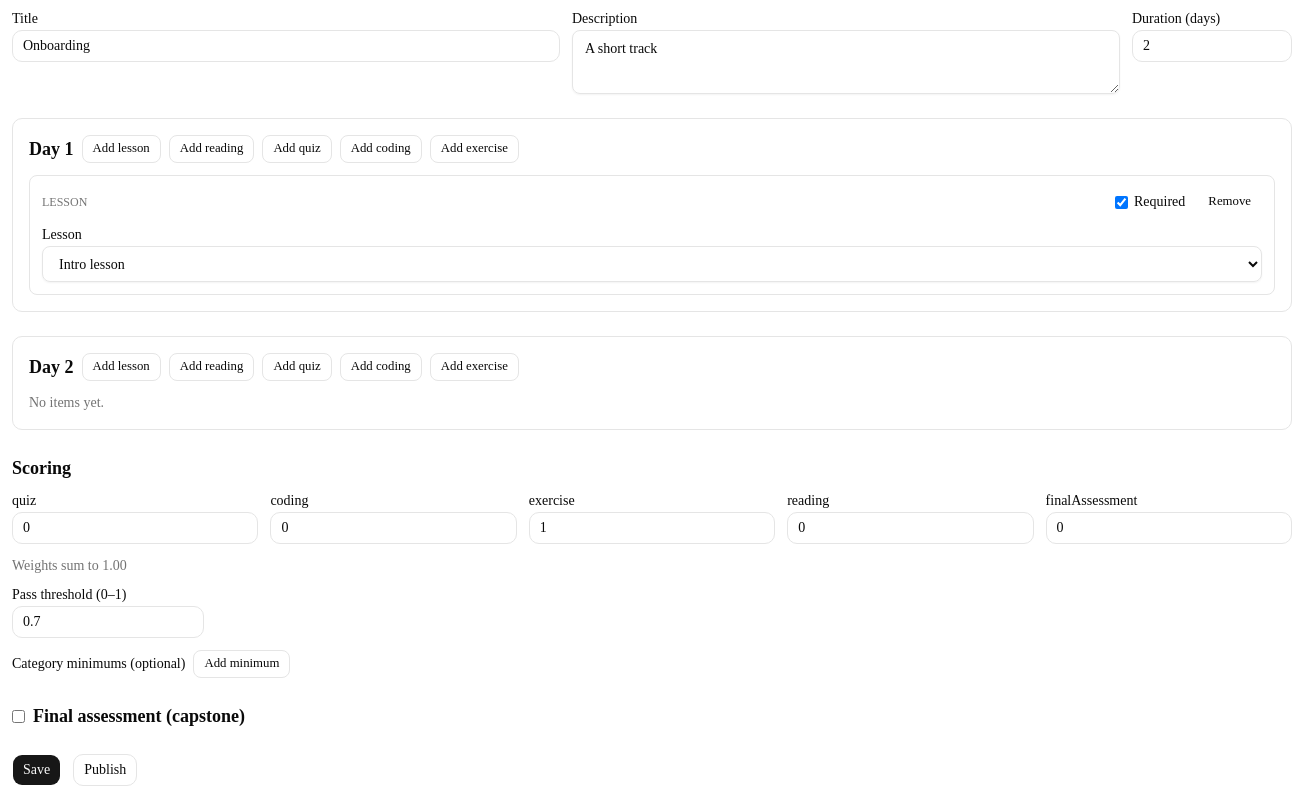
Scenario: TrackBuilder › publish is blocked while dirty and surfaces API errors verbatim once saved
Expected: the button "Publish" is enabled, [73,754,137,786]
Dirty the draft → publish disables until saved.
Step 1. Type "!" into the field labelled "Title" → x=286, y=46, box [12,30,560,62]
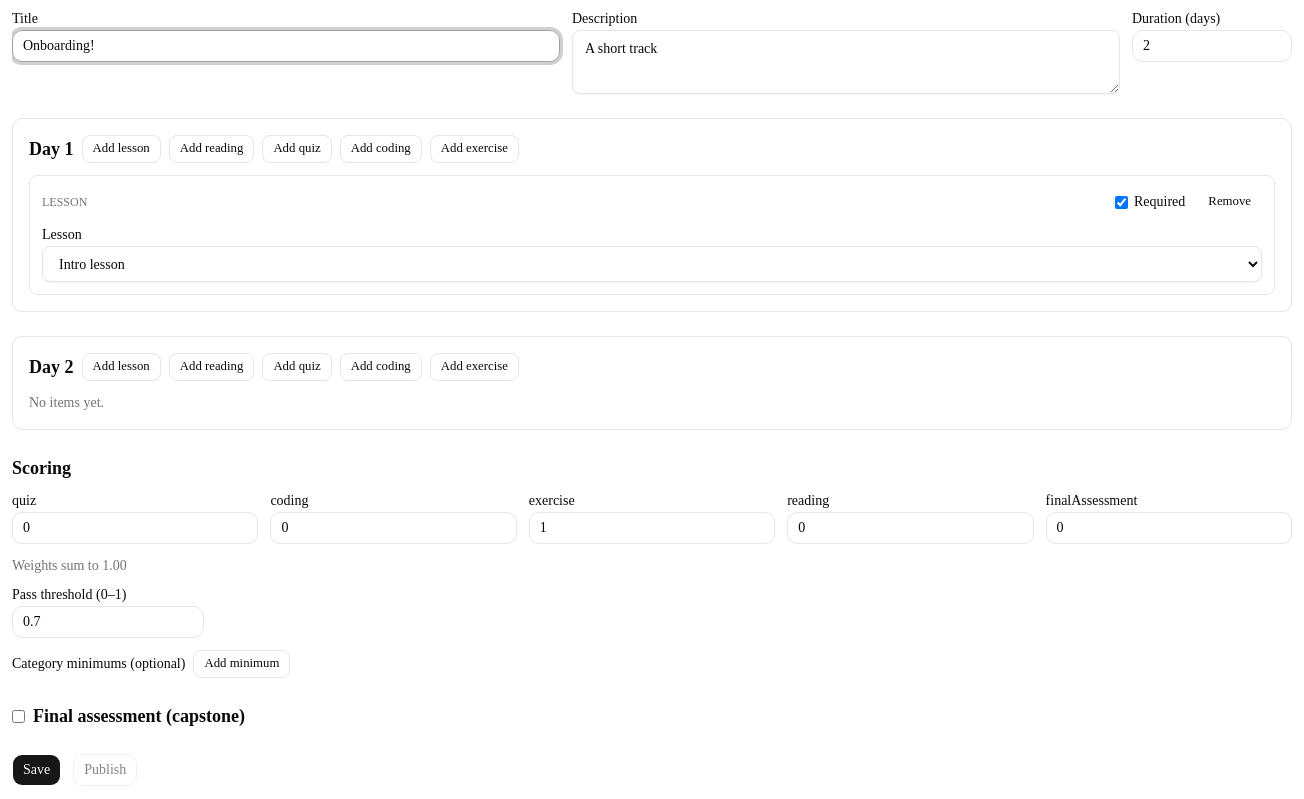
Expected: the button "Publish" is disabled, [73,754,137,786]
Step 2. Click the button "Save" → x=37, y=770, box [12,754,61,786]
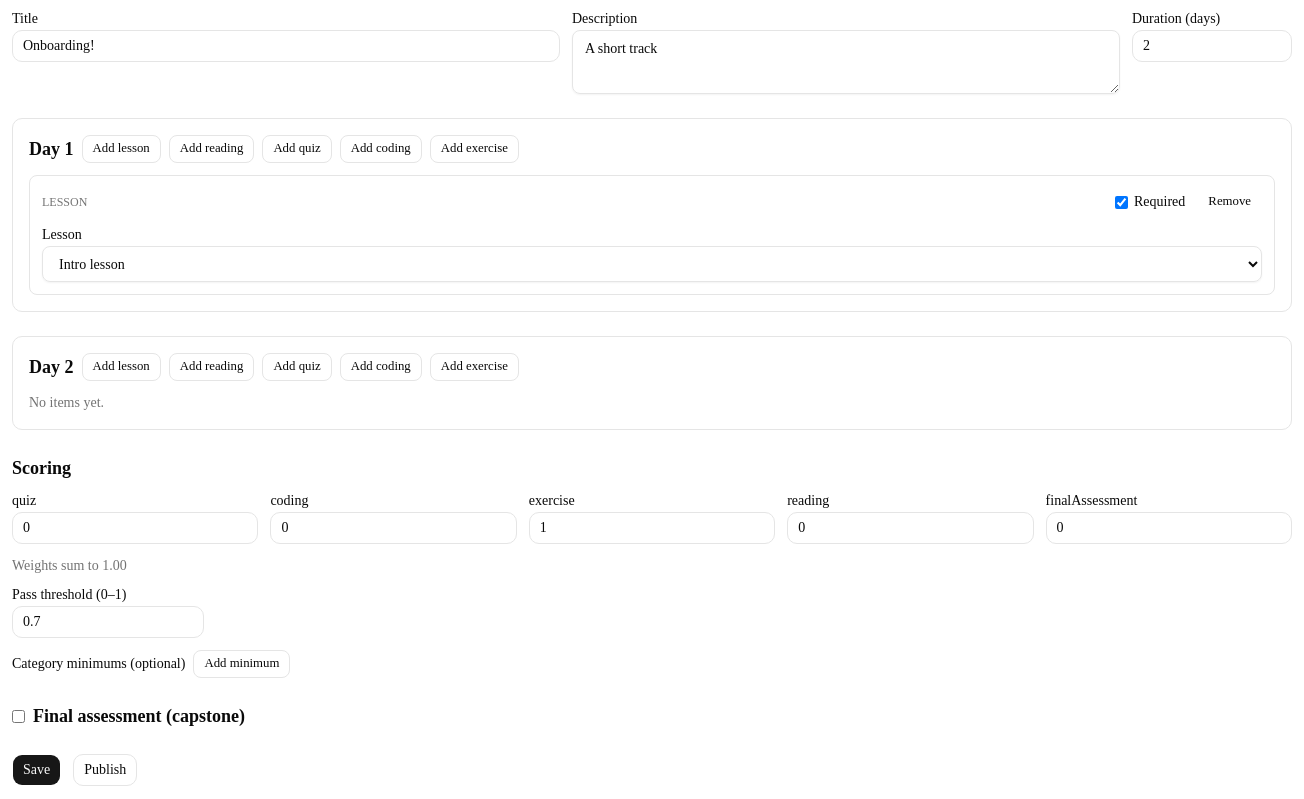
Expected: the button "Publish" is enabled
Step 3. Click the button "Publish" → x=105, y=770, box [73,754,137,786]
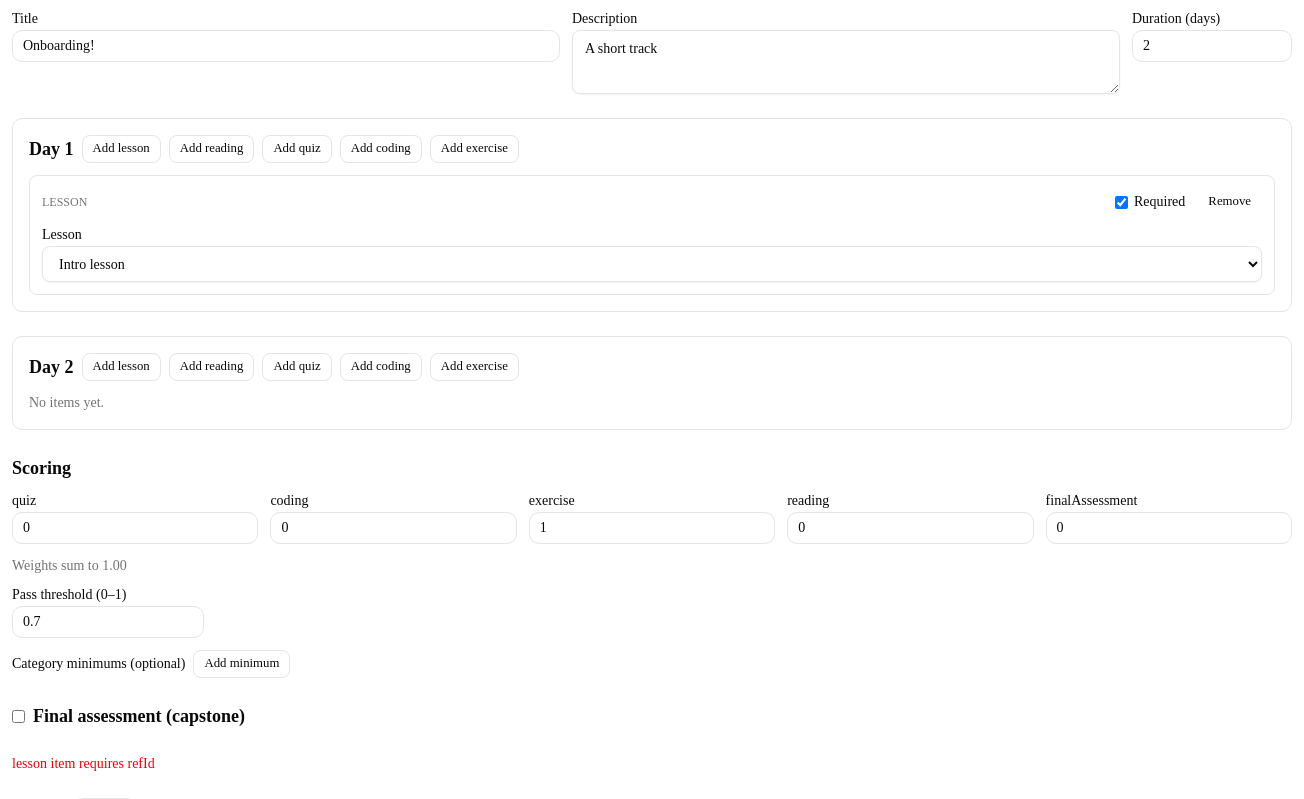
Expected: the list item "lesson item requires refId" is shown, [12,756,155,771]
